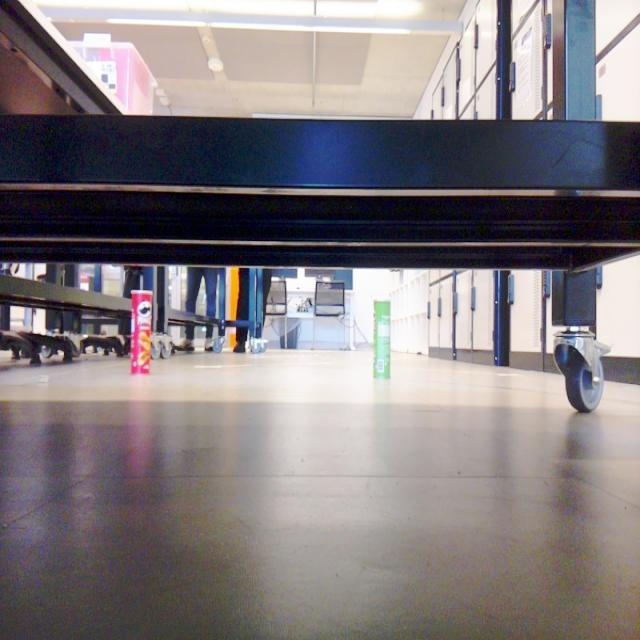greenpringles: (366, 288, 400, 388)
redpringles: (124, 275, 164, 388)
